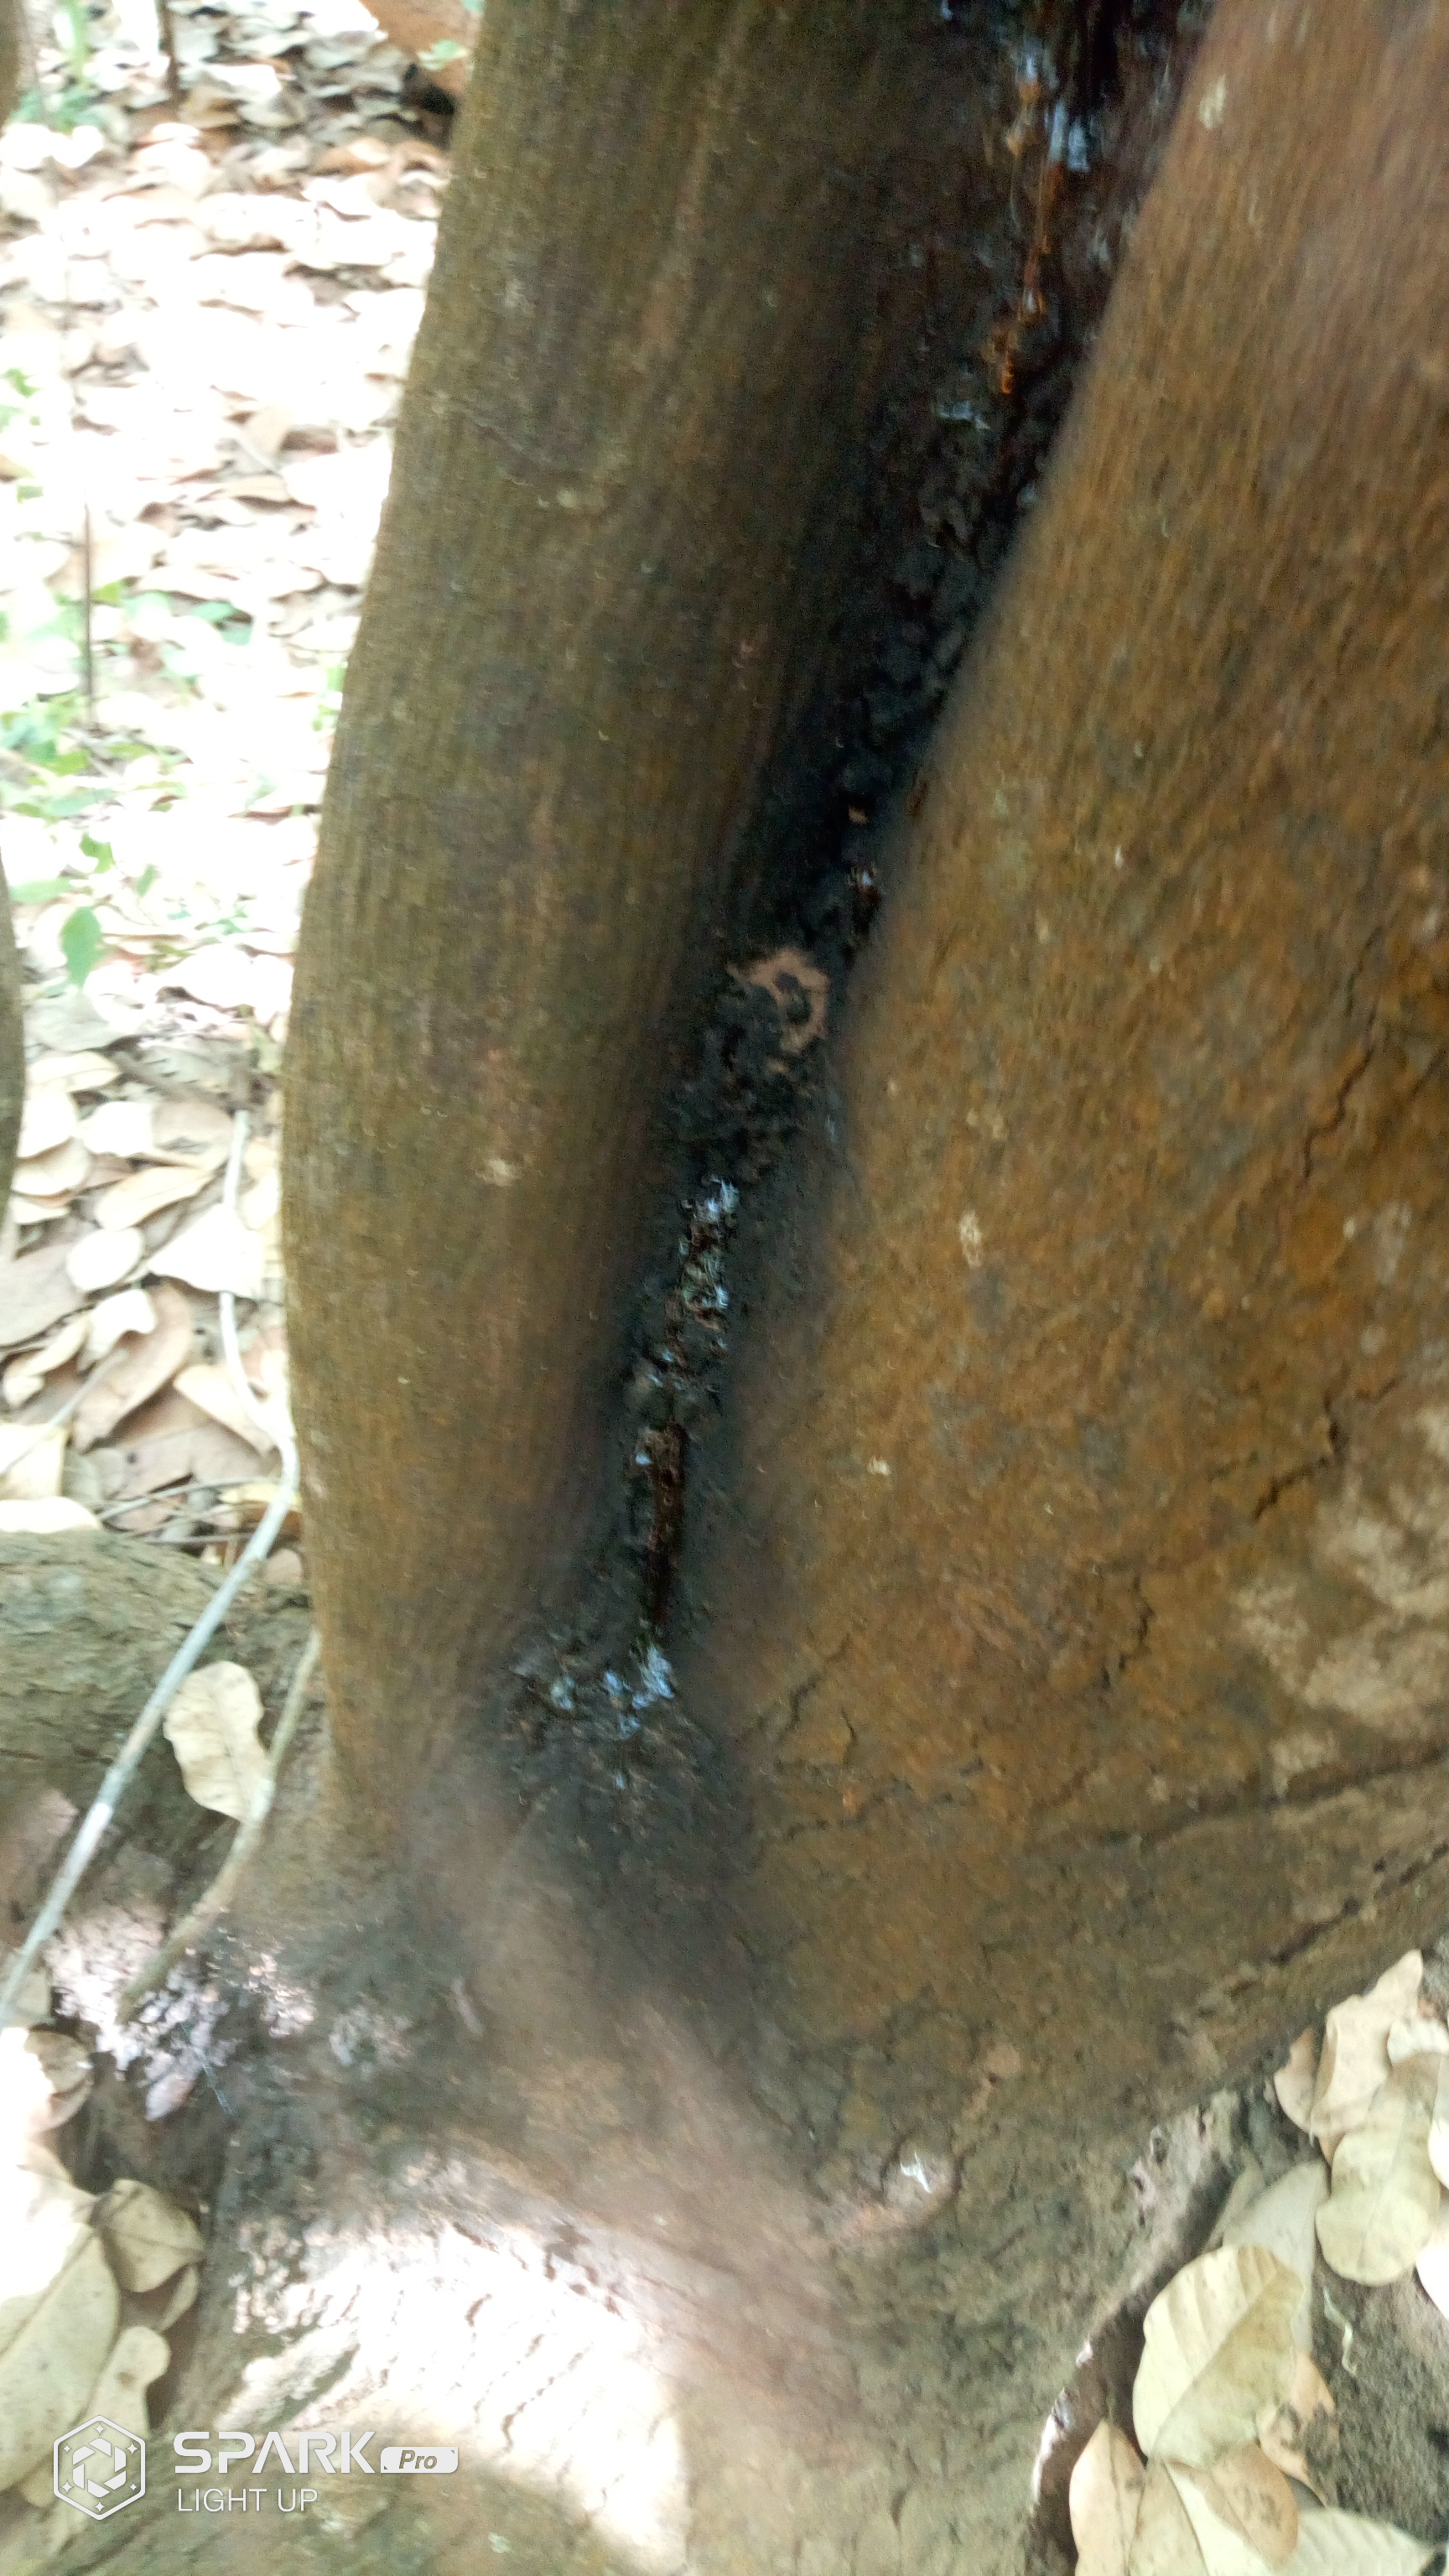Gommose: (548, 276, 1063, 1953)
